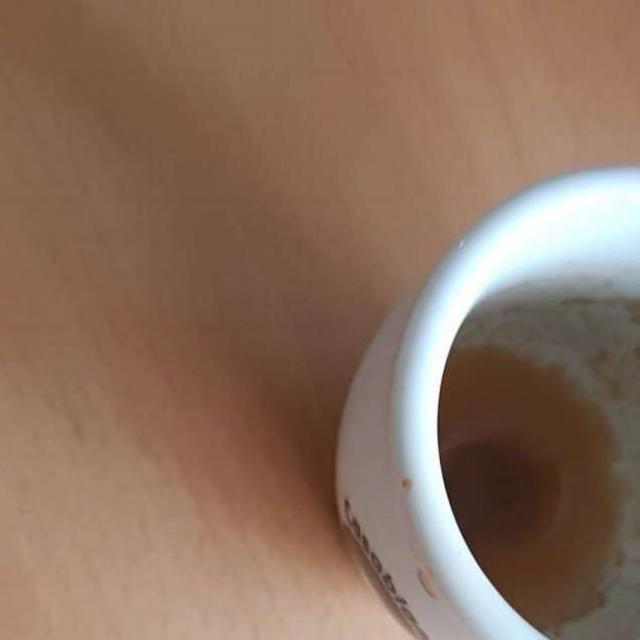coffee: (439, 290, 634, 622)
